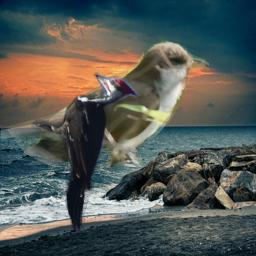Cuckoo: (0, 40, 209, 167)
Woodpecker: (31, 72, 140, 233)
